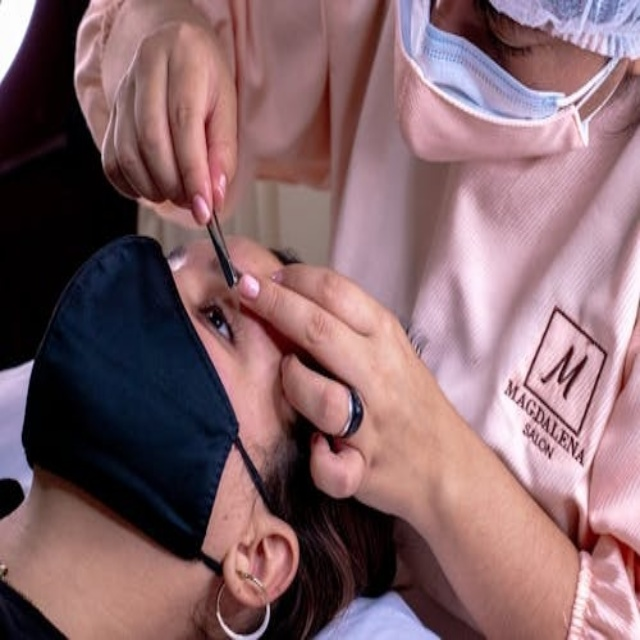Mascara: (15, 231, 280, 605), (390, 4, 623, 173)
Sin_gafas: (452, 10, 563, 81), (180, 252, 242, 361)
Sin_guantes: (241, 260, 461, 526), (105, 14, 238, 226)
